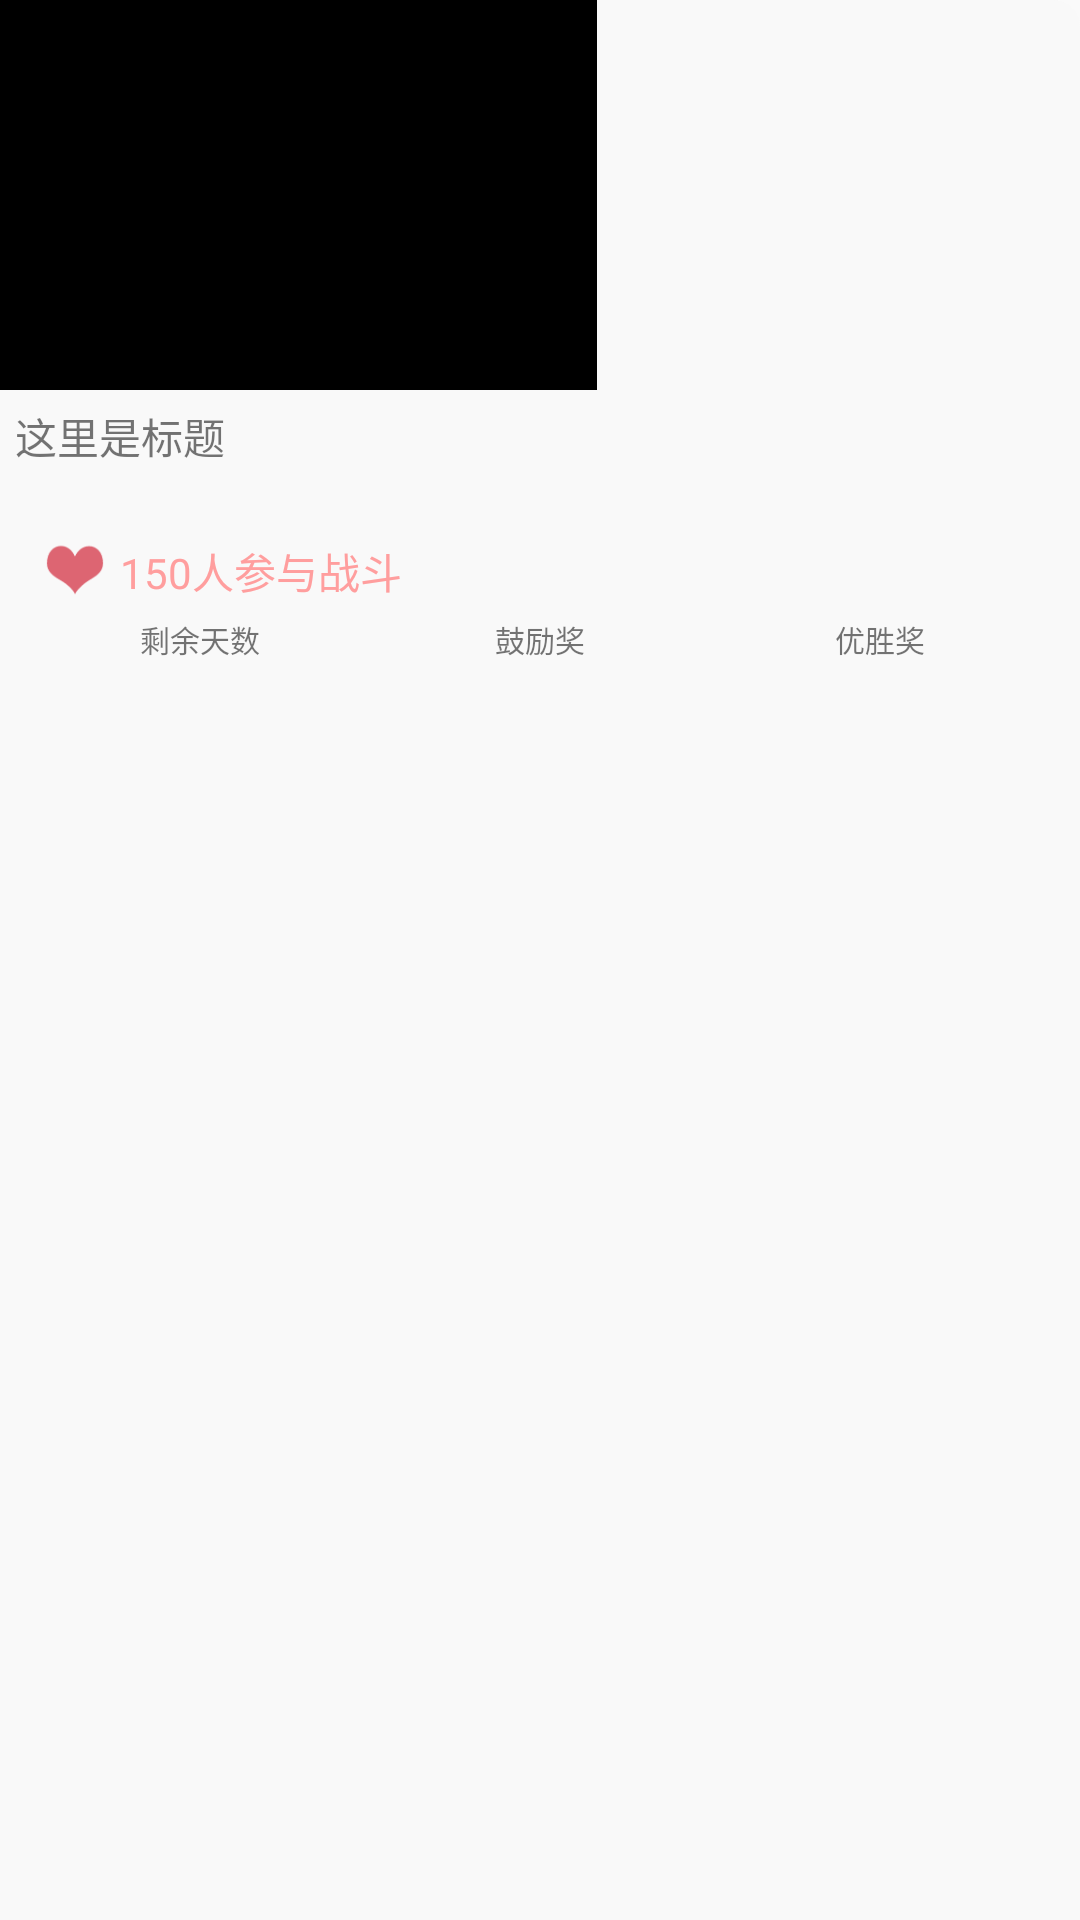

Point at icon controls on the screen. Image size 1080px×1920px, points as (x,y).
heart: (75,569)
